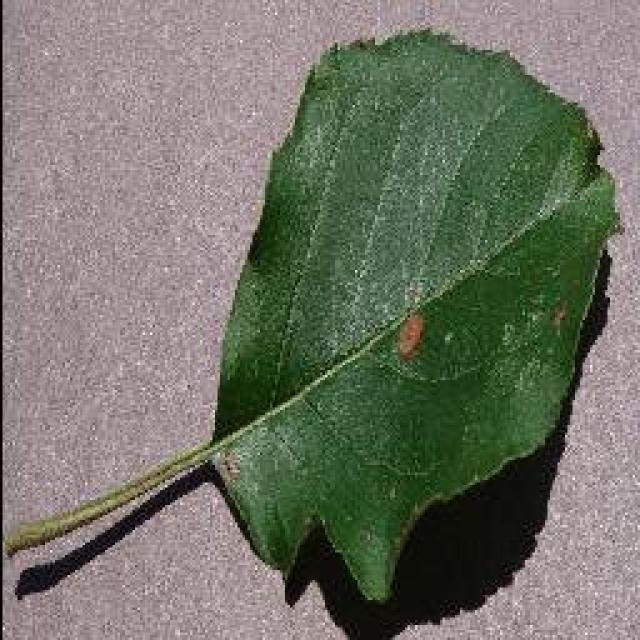Black_rot: (2, 25, 620, 607)
